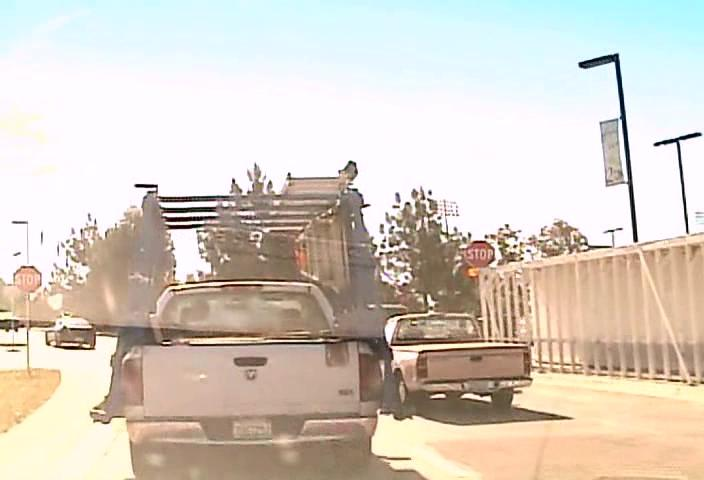stop: (464, 239, 495, 269)
